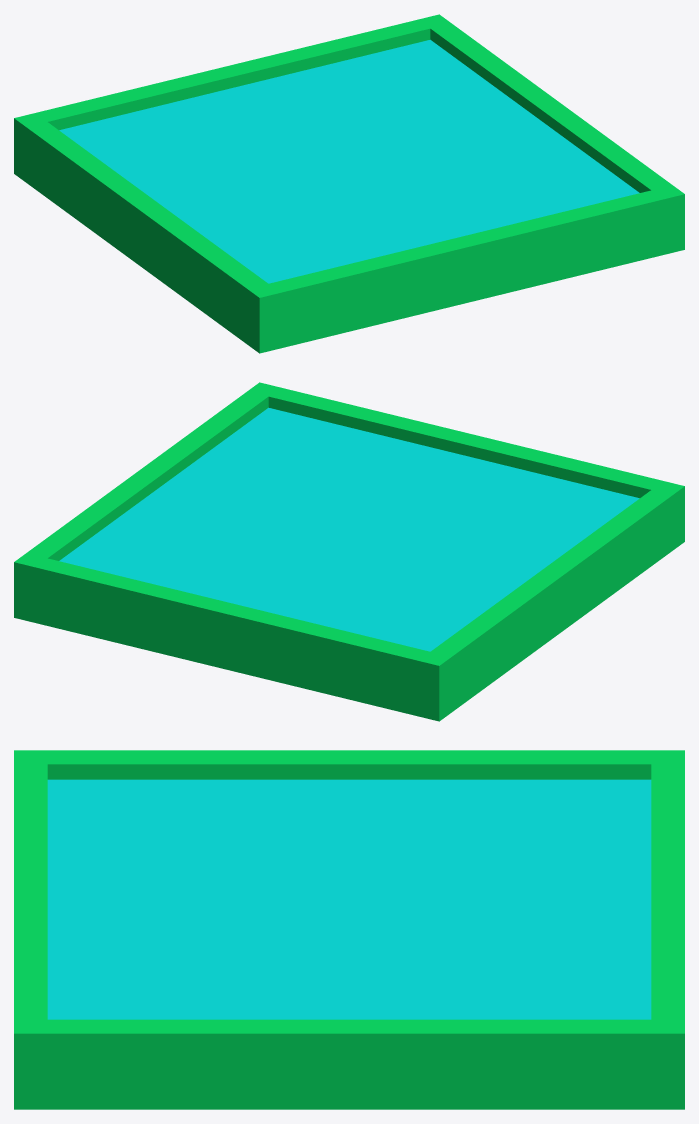
Rendered from Tile.fbx.
3 renders of one model, top to bottom at view 1: azimuth 30°, elevation 25°; view 2: azimuth 150°, elevation 25°; view 3: azimuth 270°, elevation 25°, orthographic. The views are drawn at different scales.
Visible parts, largest first — view 1: Tile; view 2: Tile; view 3: Tile.
Boxes of the visible parts, x1,y1,x2,y2 form: Tile: [14, 14, 684, 353]; Tile: [14, 382, 684, 721]; Tile: [14, 750, 684, 1109].
Bounding box in the file's own units: 400 × 50 × 400.
